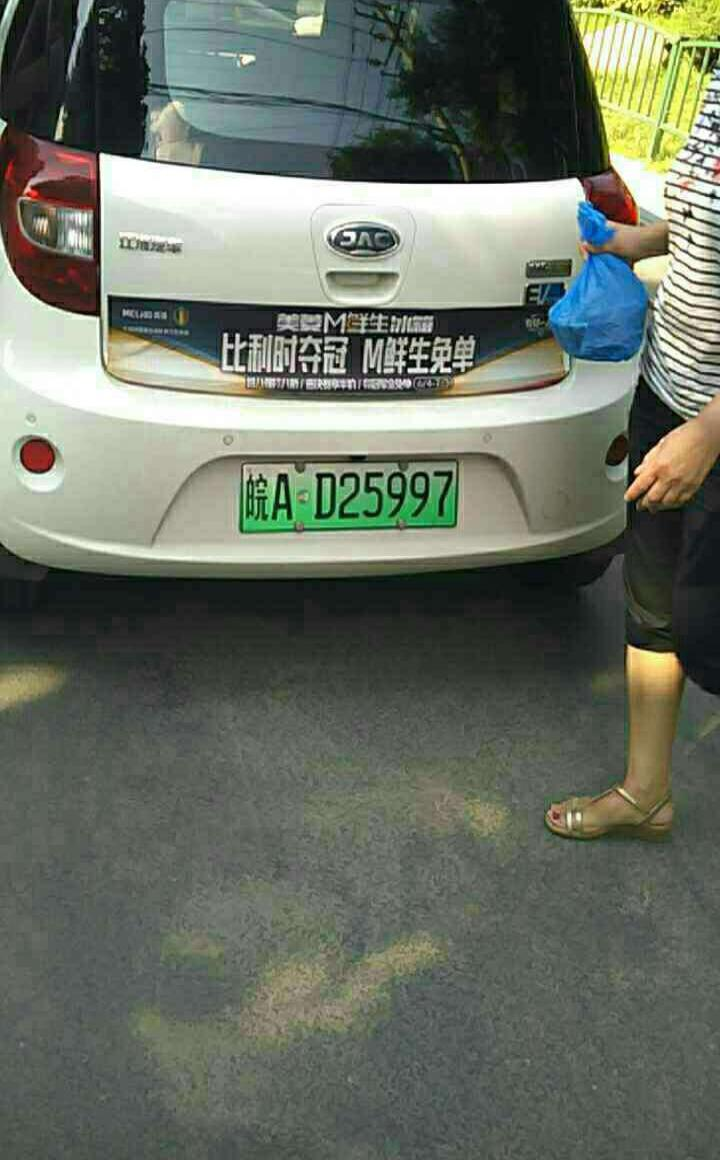car_id: (243, 456, 459, 524)
